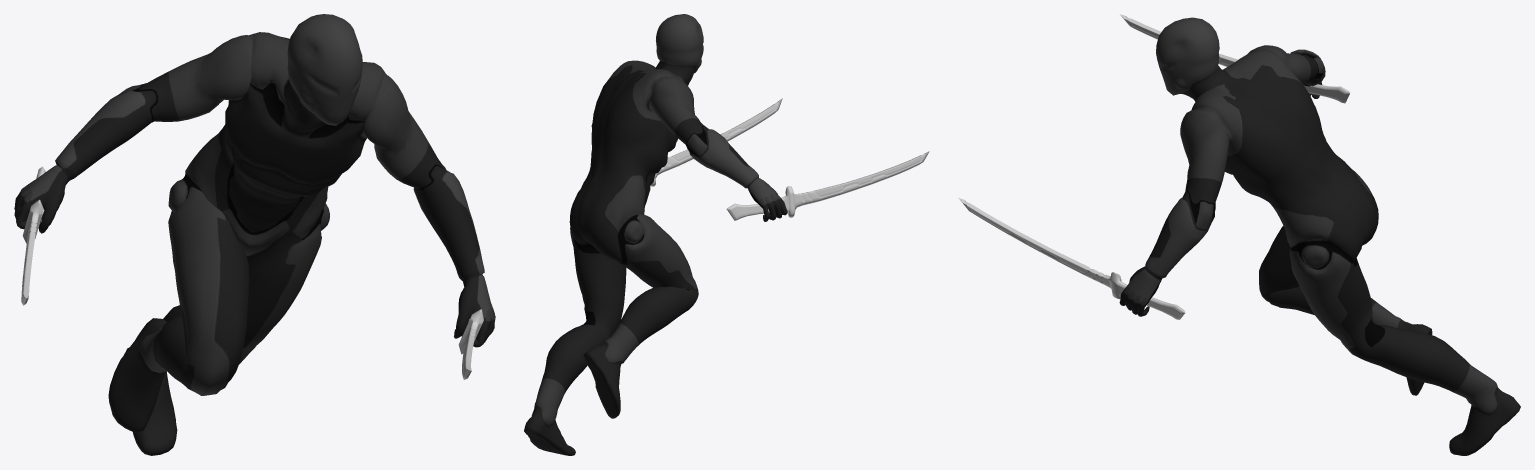
3 renders of one model, left to right at view 1: azimuth 30°, elevation 25°; view 2: azimuth 150°, elevation 25°; view 3: azimuth 270°, elevation 25°, orthographic. The views are drawn at different scales.
Visible parts, largest first — view 1: Cyborg_Ninja_Killer, Sword_l001, Sword_l; view 2: Cyborg_Ninja_Killer, Sword_l001, Sword_l; view 3: Cyborg_Ninja_Killer, Sword_l, Sword_l001.
Boxes of the visible parts, box(x1,y1,x2,y2) form: Cyborg_Ninja_Killer: box(14, 14, 495, 455); Sword_l001: box(21, 166, 45, 305); Sword_l: box(458, 309, 483, 379); Cyborg_Ninja_Killer: box(524, 14, 787, 455); Sword_l001: box(726, 151, 929, 220); Sword_l: box(650, 98, 782, 186); Cyborg_Ninja_Killer: box(1119, 17, 1520, 455); Sword_l: box(958, 197, 1185, 319); Sword_l001: box(1119, 14, 1350, 103).
Bounding box in the file's own units: 142 × 153 × 183.
